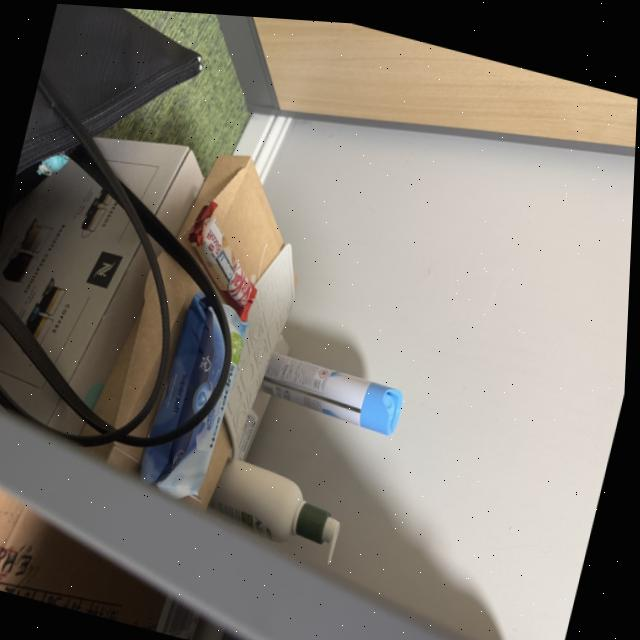chocolate: (174, 188, 284, 319)
